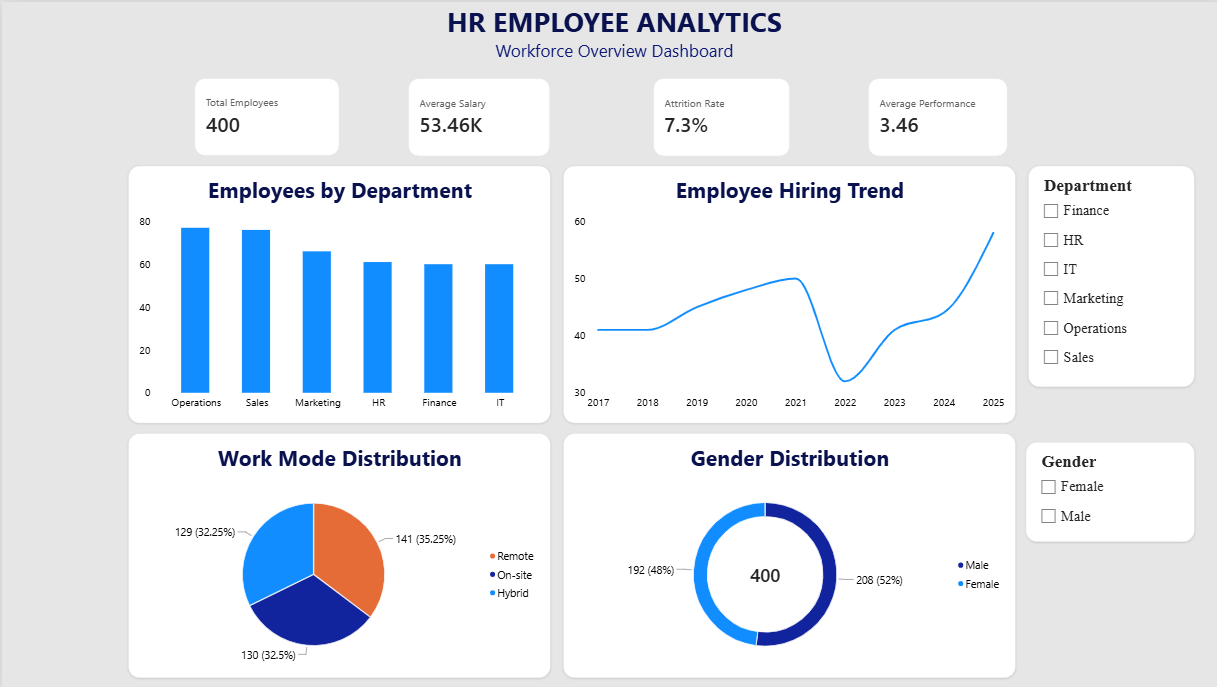

The dashboard page shown, as its layout file describes it:
{"tool":"powerbi","page":{"name":"HR_Overview","canvas":[1920,1080],"ordinal":0},"visuals":[{"type":"textbox","box":[15.7,0,1890.2,172.5],"z":0},{"type":"cardVisual","fields":{"Data":["HR_Employee_Data_400.Total Employees"]},"box":[302,119.6,227.5,121.6],"z":1000},{"type":"cardVisual","fields":{"Data":["HR_Employee_Data_400.Average Salary"]},"box":[637.3,119.6,222,122],"z":2000},{"type":"cardVisual","fields":{"Data":["HR_Employee_Data_400.Attrition Rate"]},"box":[1021.6,119.6,214,122],"z":3000},{"type":"cardVisual","fields":{"Data":["HR_Employee_Data_400.Average Performance"]},"box":[1358.8,119.6,218,122],"z":4000},{"type":"clusteredColumnChart","title":"Employees by Department","fields":{"Category":["HR_Employee_Data_400.Department"],"Y":["CountNonNull(HR_Employee_Data_400.Employee_ID)"]},"box":[198,256.9,662.7,403.9],"z":5000},{"type":"donutChart","title":"Gender Distribution","fields":{"Category":["HR_Employee_Data_400.Gender"],"Y":["CountNonNull(HR_Employee_Data_400.Employee_ID)"]},"box":[880.4,676.5,709.8,384.3],"z":6000},{"type":"lineChart","title":"Employee Hiring Trend","fields":{"Category":["HR_Employee_Data_400.Hire_Date.Variation.Date Hierarchy.Year"],"Y":["CountNonNull(HR_Employee_Data_400.Employee_ID)"]},"box":[880.4,256.9,709.8,403.9],"z":7000},{"type":"pieChart","title":"Work Mode Distribution","fields":{"Category":["HR_Employee_Data_400.Work_Mode"],"Y":["CountNonNull(HR_Employee_Data_400.Employee_ID)"]},"box":[198,676.5,662.7,384.3],"z":8000},{"type":"slicer","fields":{"Values":["HR_Employee_Data_400.Gender"]},"box":[1605.9,690.2,264.7,156.9],"z":9000},{"type":"slicer","fields":{"Values":["HR_Employee_Data_400.Department"]},"box":[1609.8,256.9,260.8,347.1],"z":10000}]}

Visuals, with their boxes in screenshot pixels (x1, y1, x2, y2), scaled from the page's 1920x1080 canvas onto the 1217x687 screenshot:
textbox: box=[10, 0, 1208, 110]
cardVisual - HR_Employee_Data_400.Total Employees: box=[191, 76, 336, 153]
cardVisual - HR_Employee_Data_400.Average Salary: box=[404, 76, 545, 154]
cardVisual - HR_Employee_Data_400.Attrition Rate: box=[648, 76, 783, 154]
cardVisual - HR_Employee_Data_400.Average Performance: box=[861, 76, 999, 154]
"Employees by Department" clusteredColumnChart: box=[126, 163, 546, 420]
"Gender Distribution" donutChart: box=[558, 430, 1008, 675]
"Employee Hiring Trend" lineChart: box=[558, 163, 1008, 420]
"Work Mode Distribution" pieChart: box=[126, 430, 546, 675]
slicer - HR_Employee_Data_400.Gender: box=[1018, 439, 1186, 539]
slicer - HR_Employee_Data_400.Department: box=[1020, 163, 1186, 384]
